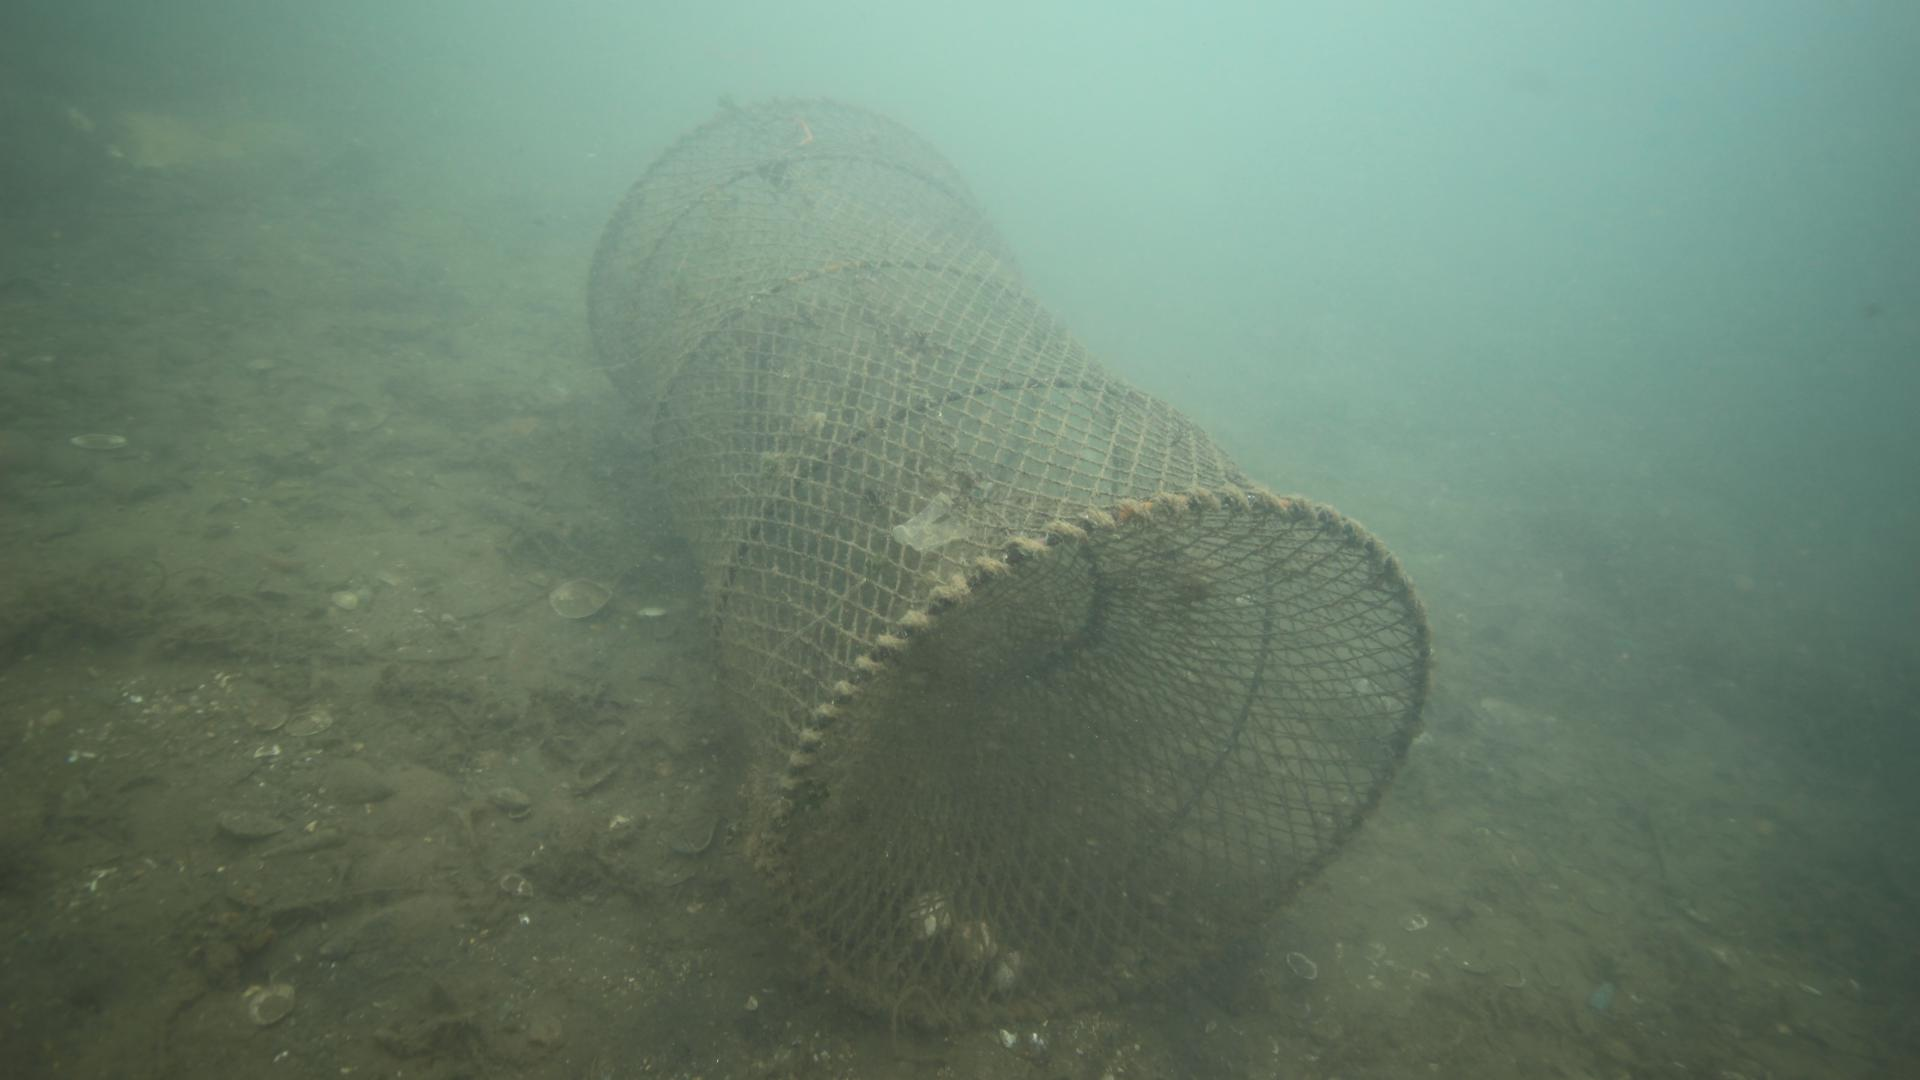spring fish trap: (583, 98, 1433, 1033)
